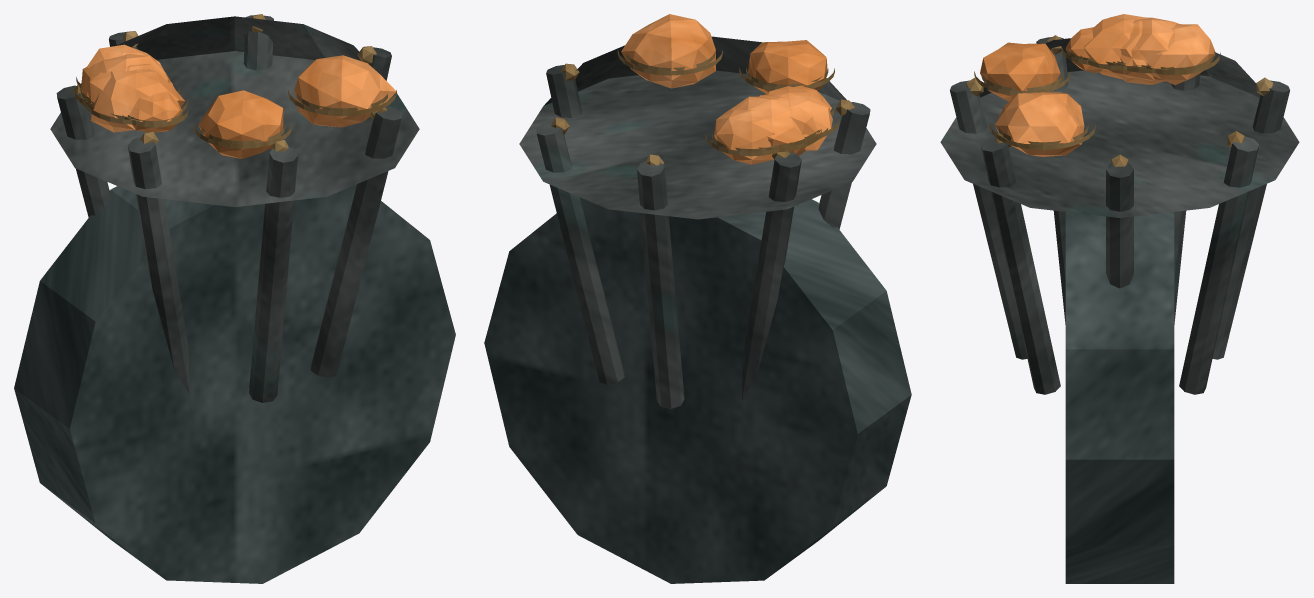
The model's file is 0529_brazier_04.glb.
3 views of the same model, side by side, from view 1: azimuth 30°, elevation 25°; view 2: azimuth 150°, elevation 25°; view 3: azimuth 270°, elevation 25° (orthographic). The views are drawn at different scales.
Visible parts, largest first — view 1: stone_dark, iron, amber, brass; view 2: stone_dark, iron, amber, brass; view 3: iron, stone_dark, amber, brass.
Part boxes in pixels (box(x1,y1,x2,y2)): stone_dark: box(14, 184, 455, 583); iron: box(50, 15, 419, 402); amber: box(81, 44, 396, 158); brass: box(73, 14, 396, 151); stone_dark: box(484, 197, 911, 583); iron: box(519, 36, 876, 408); amber: box(621, 14, 832, 164); brass: box(551, 49, 854, 165); iron: box(940, 37, 1299, 394); stone_dark: box(1065, 212, 1174, 583); amber: box(980, 14, 1215, 156); brass: box(966, 35, 1273, 166).
Bounding box in the file's own units: 1.4 × 1.79 × 1.16.
4 materials, 4 textured.
